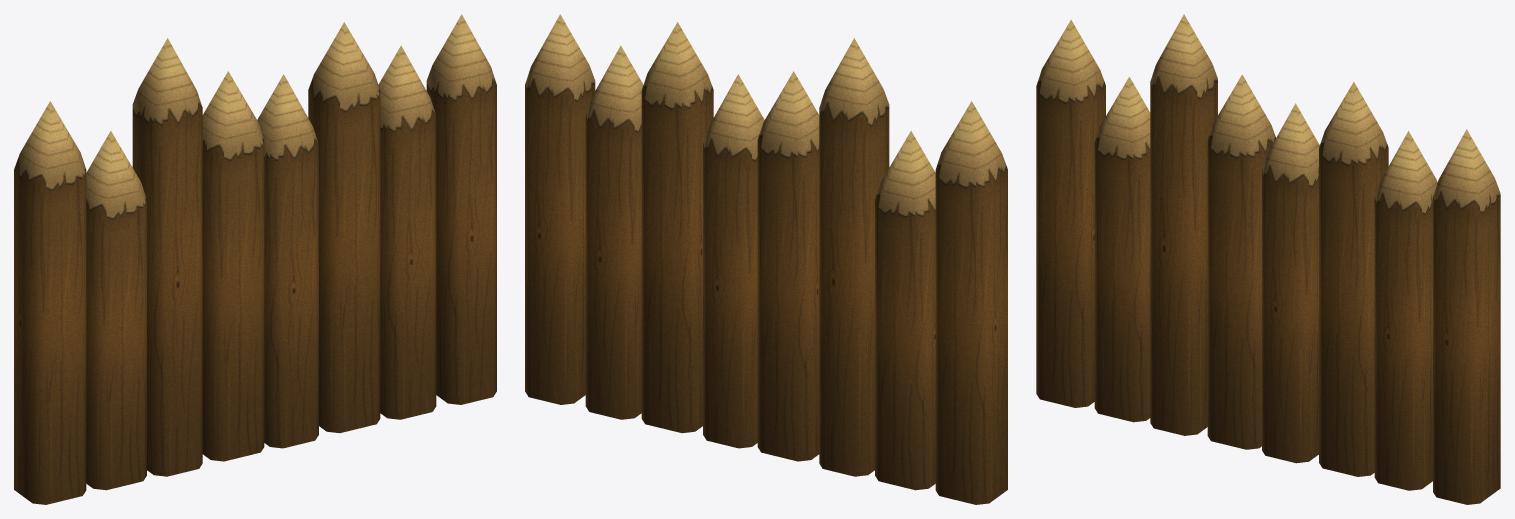
The model's file is Fence_Sturdy.FBX.
The picture shows the model from 3 angles, left to right: view 1: azimuth 30°, elevation 25°; view 2: azimuth 150°, elevation 25°; view 3: azimuth 330°, elevation 25°; orthographic projection. The views are drawn at different scales.
Parts seen in each view (by area): view 1: Fence_Sturdy; view 2: Fence_Sturdy; view 3: Fence_Sturdy.
Part boxes in pixels (x1,y1,x2,y2): Fence_Sturdy: (14, 14, 496, 504); Fence_Sturdy: (525, 14, 1007, 504); Fence_Sturdy: (1036, 14, 1500, 504).
Size of the model in its own units: 674 by 590 by 78.24.
